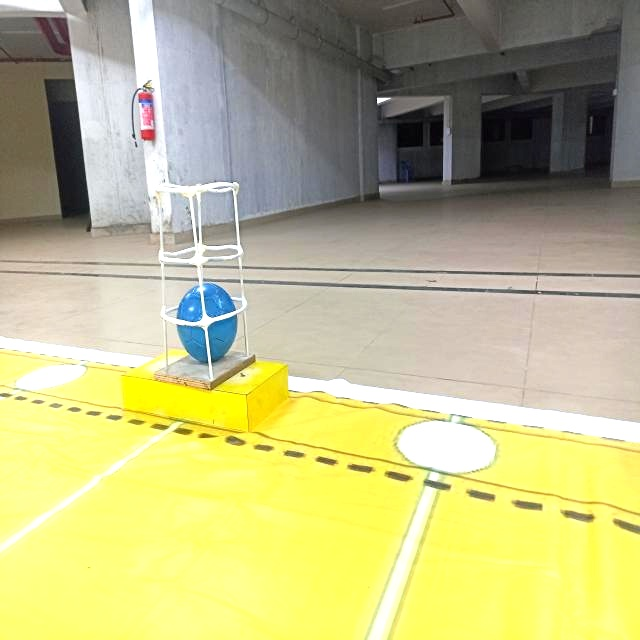blue_ball: (178, 283, 232, 370)
silo: (157, 179, 254, 385)
